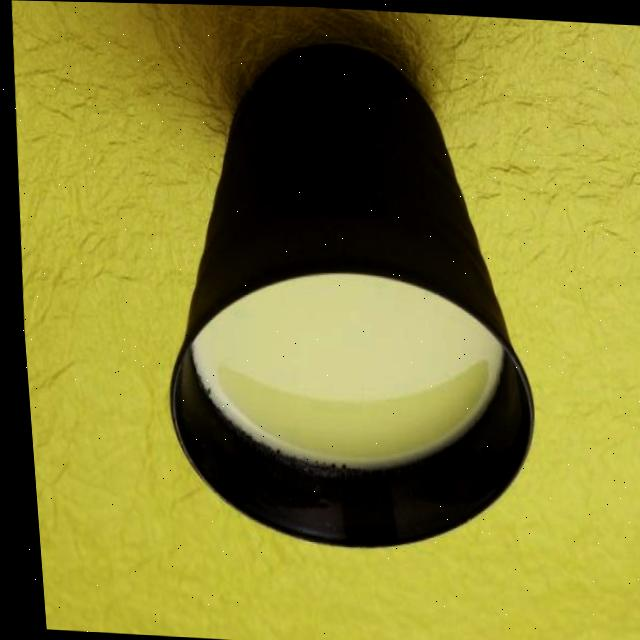鸡蛋料理: (284, 138, 598, 610)
